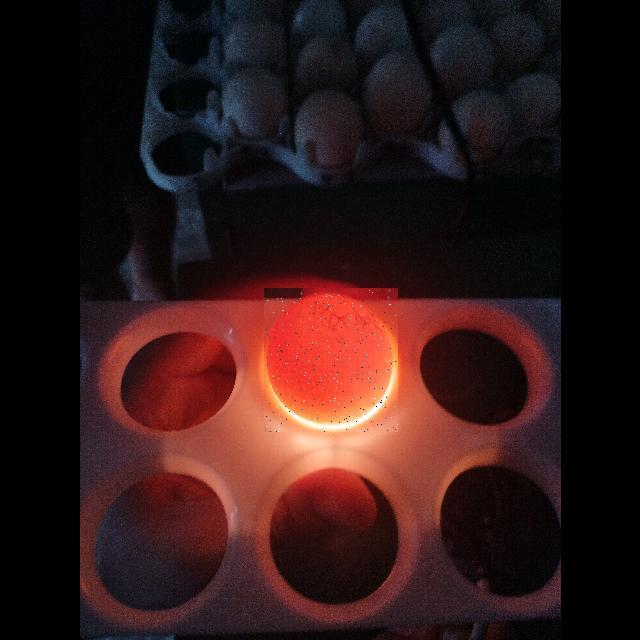A - Good: (264, 288, 398, 432)
